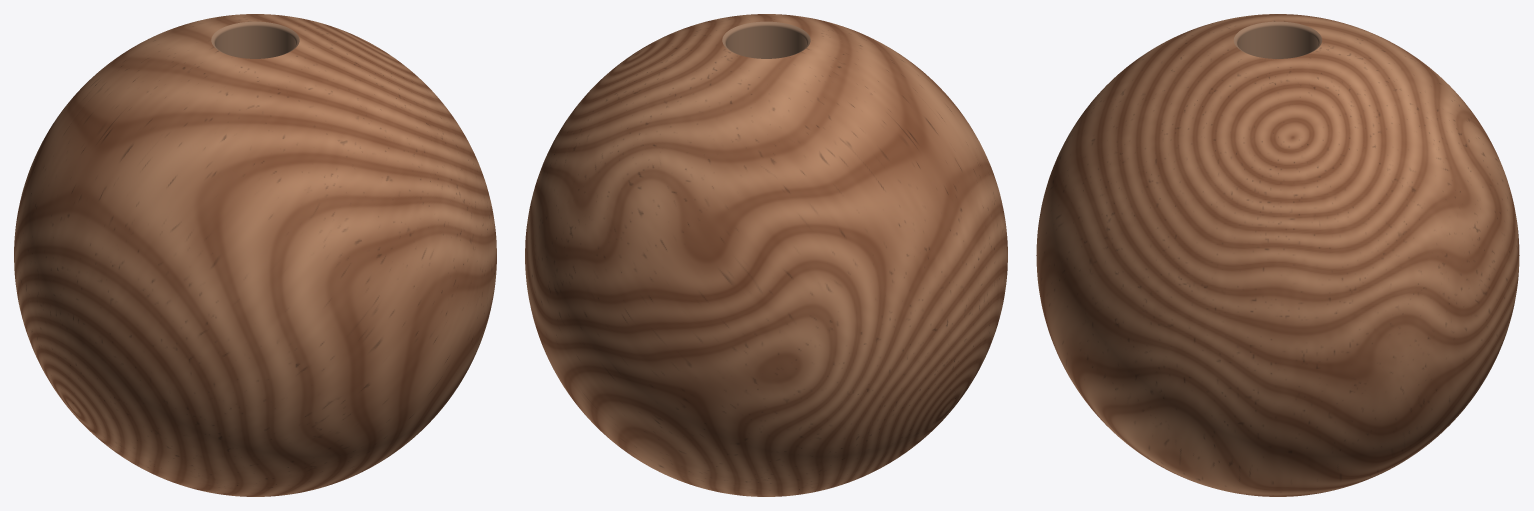
File: wood-yew-6mm.glb
The picture shows the model from 3 angles, left to right: view 1: azimuth 30°, elevation 25°; view 2: azimuth 150°, elevation 25°; view 3: azimuth 270°, elevation 25°; orthographic projection.
Parts seen in each view (by area): view 1: yew; view 2: yew; view 3: yew.
Part boxes in pixels (<box>): yew: <box>14,14,496,496</box>; yew: <box>525,14,1007,496</box>; yew: <box>1036,14,1519,496</box>.
Bounding box in the file's own units: 0.006 × 0.0059 × 0.006.
Materials: 2 (1 with a texture image).
